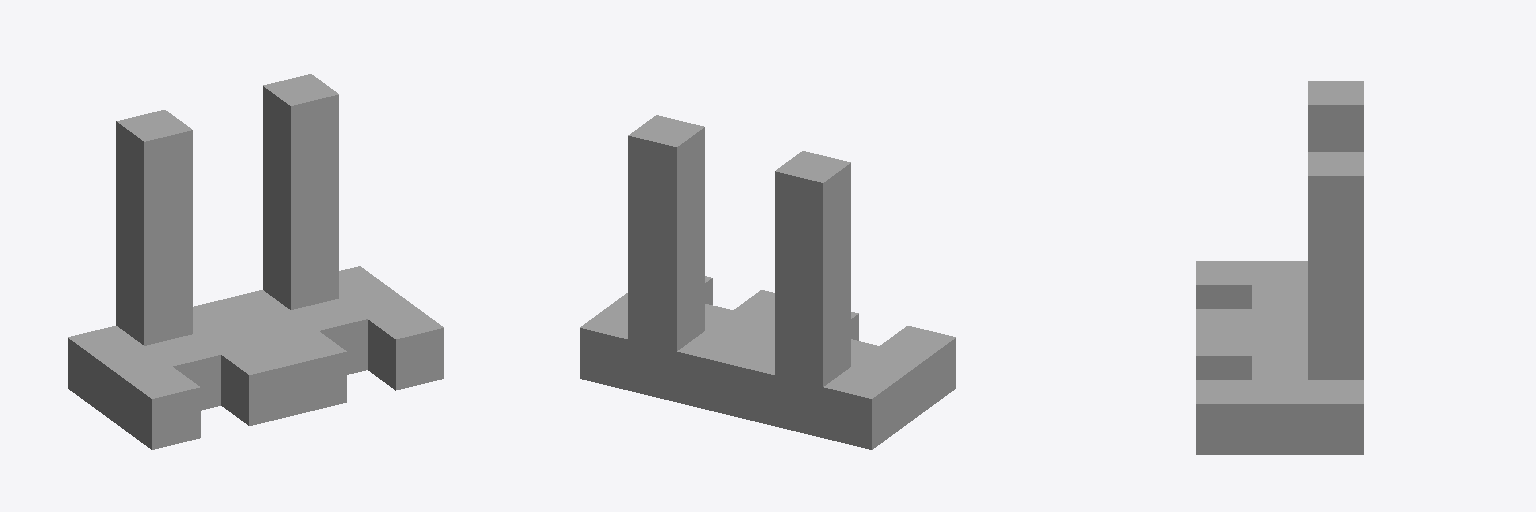
3 views of the same model, side by side, from view 1: azimuth 30°, elevation 25°; view 2: azimuth 150°, elevation 25°; view 3: azimuth 270°, elevation 25° (orthographic).
Visible parts, largest first — view 1: Model; view 2: Model; view 3: Model.
Boxes of the visible parts, x1=… form: Model: x1=68, y1=74, x2=443, y2=449; Model: x1=580, y1=115, x2=955, y2=449; Model: x1=1196, y1=81, x2=1363, y2=454.
Size of the model in its own units: 6 by 5 by 3.
Materials: 1 (1 with a texture image).